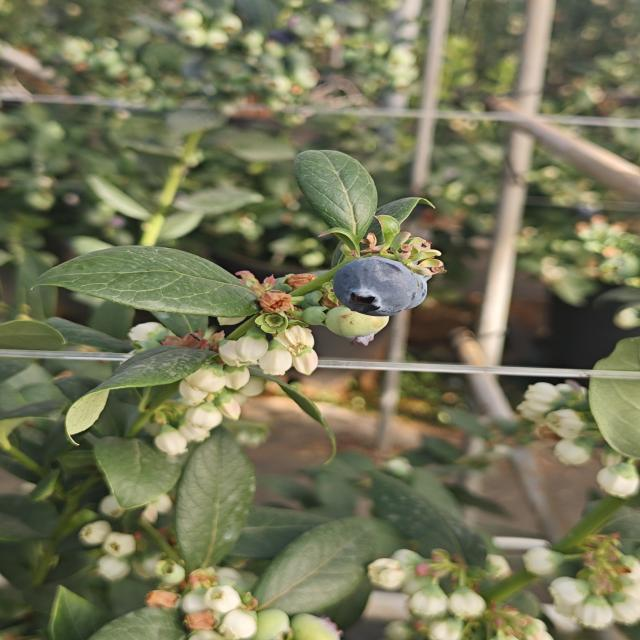ripe: (330, 253, 421, 314)
